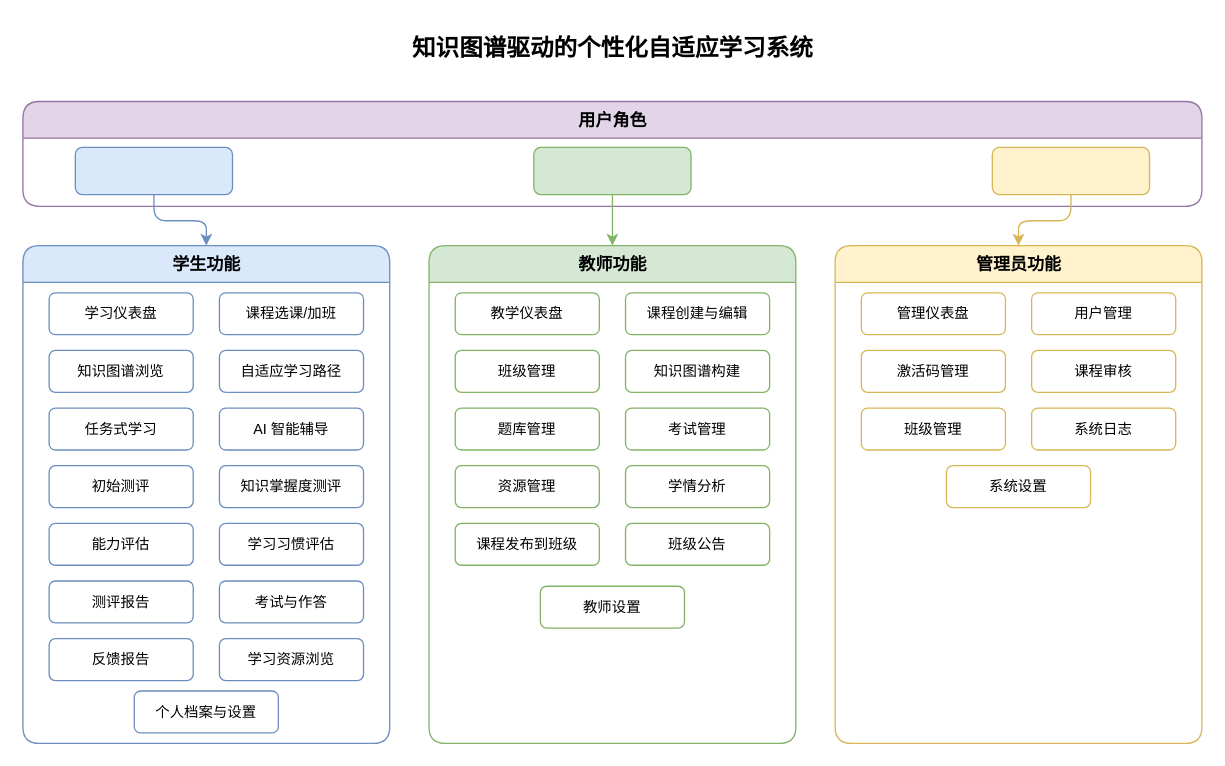
This 1225x766 diagram has some shape labels left out. Each missing label, with the centre of its shape:
"学生" belongs at (x=153, y=170).
"教师" belongs at (x=612, y=170).
"管理员" belongs at (x=1070, y=170).
